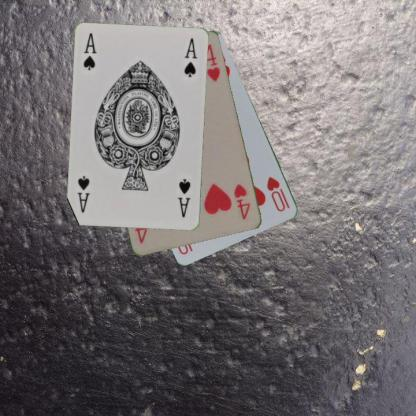10h: (264, 174, 291, 213)
4h: (231, 181, 252, 222)
As: (81, 31, 98, 72), (176, 176, 192, 219)
